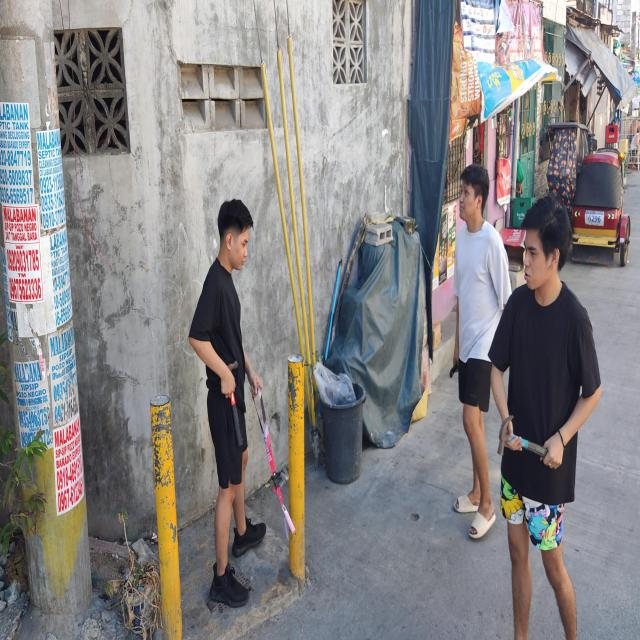hammer: (497, 415, 548, 458), (221, 360, 243, 446)
